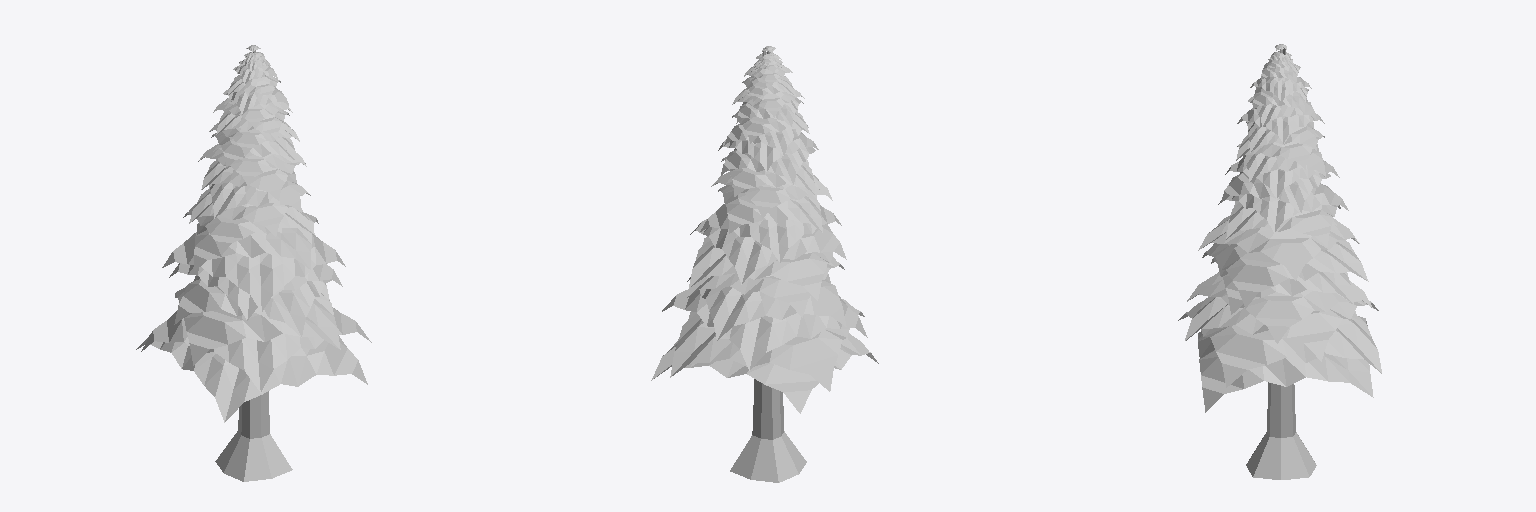
File: game_firtree4.obj
3 renders of one model, left to right at view 1: azimuth 30°, elevation 25°; view 2: azimuth 150°, elevation 25°; view 3: azimuth 270°, elevation 25°, orthographic.
Parts seen in each view (by area): view 1: Plane.003; view 2: Plane.003; view 3: Plane.003.
Boxes of the visible parts, x1=… form: Plane.003: x1=136, y1=45, x2=371, y2=481; Plane.003: x1=651, y1=46, x2=878, y2=482; Plane.003: x1=1178, y1=44, x2=1381, y2=479.
Bounding box in the file's own units: 9.26 × 20.88 × 9.24.